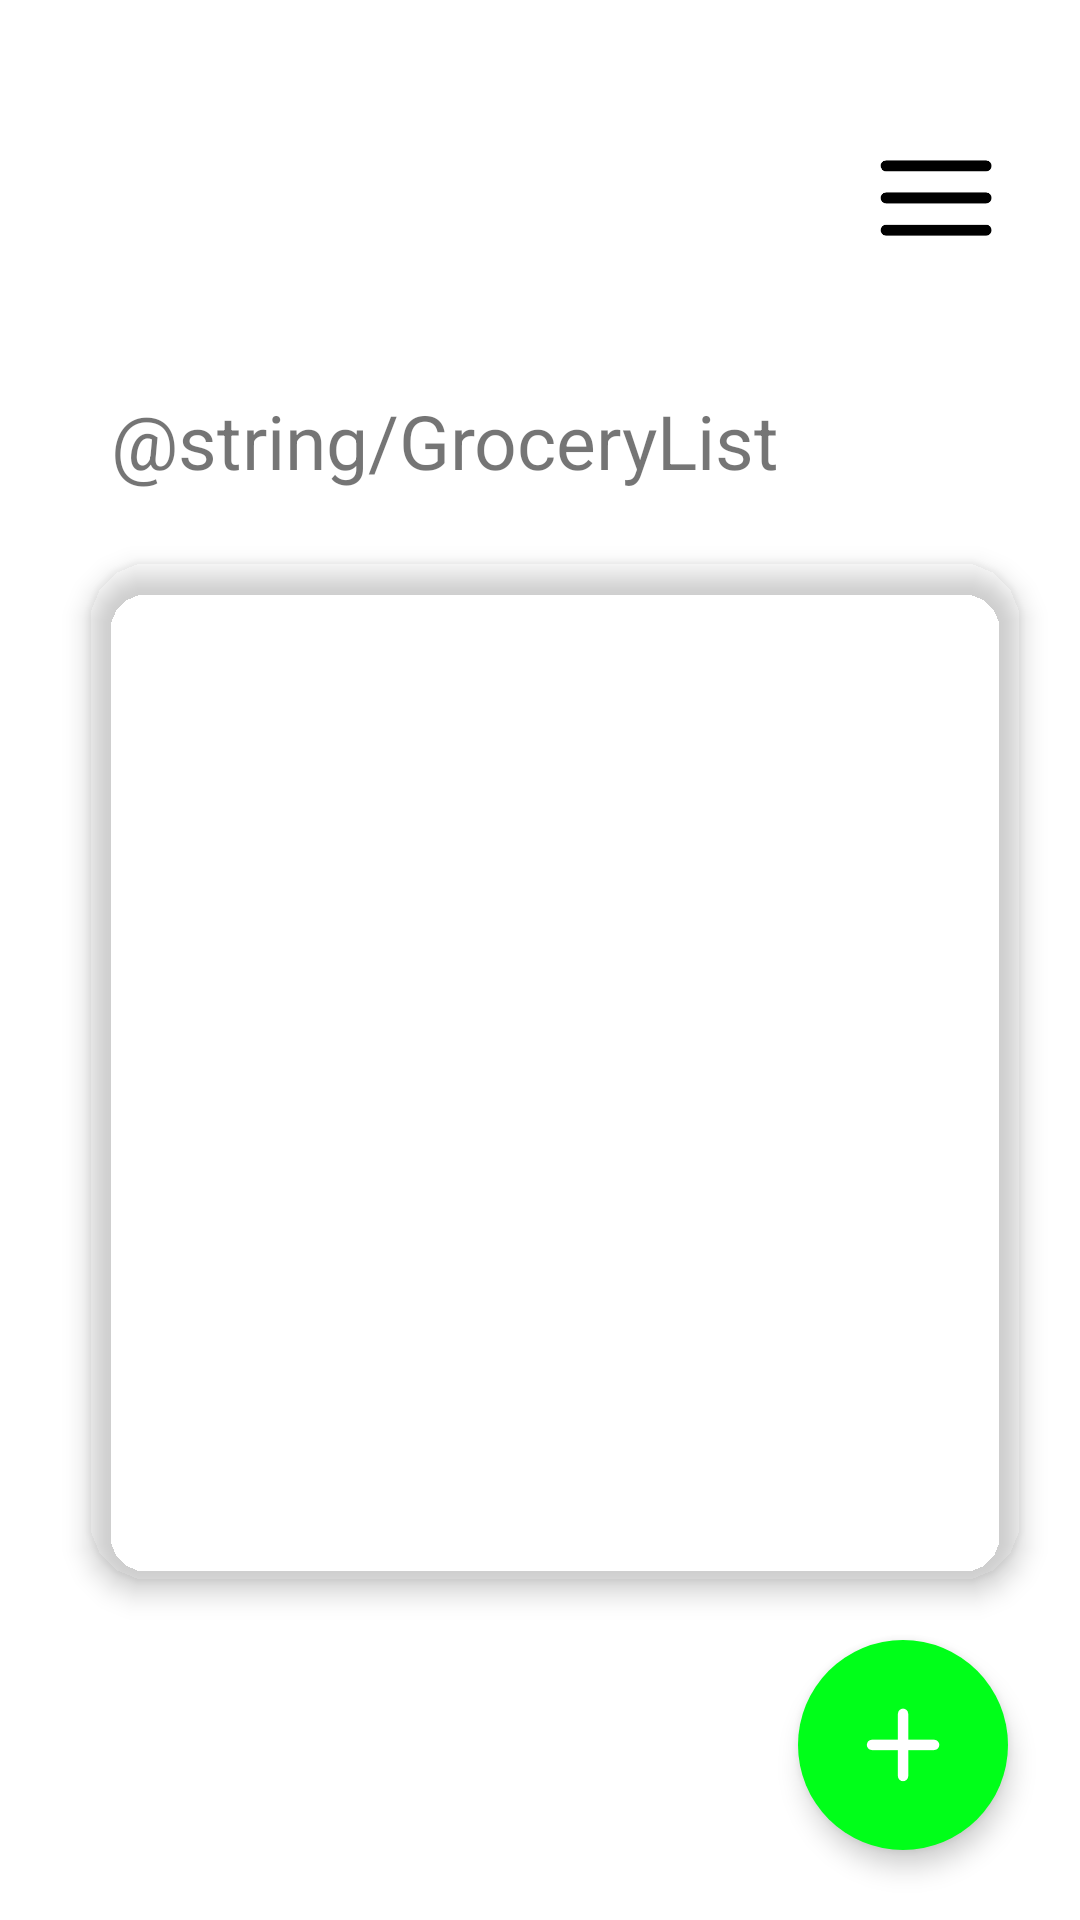

Locate icon controls on the screen. Image size 1080px x 1920px, boxes as (x1, y1, x2, y2).
add: (798, 1640, 1008, 1850)
menu: (880, 160, 992, 236)
